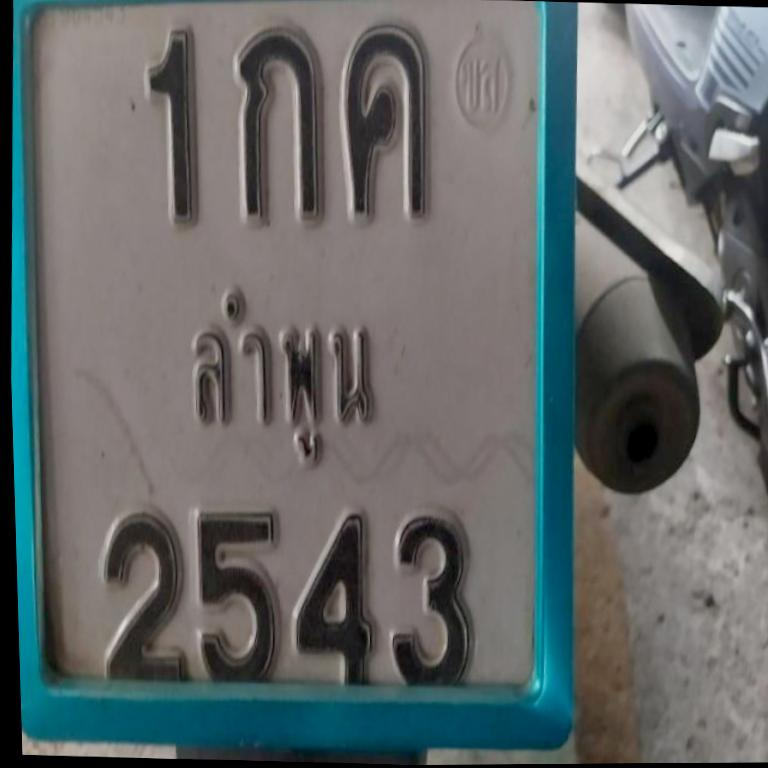license plate: (0, 0, 612, 764)
